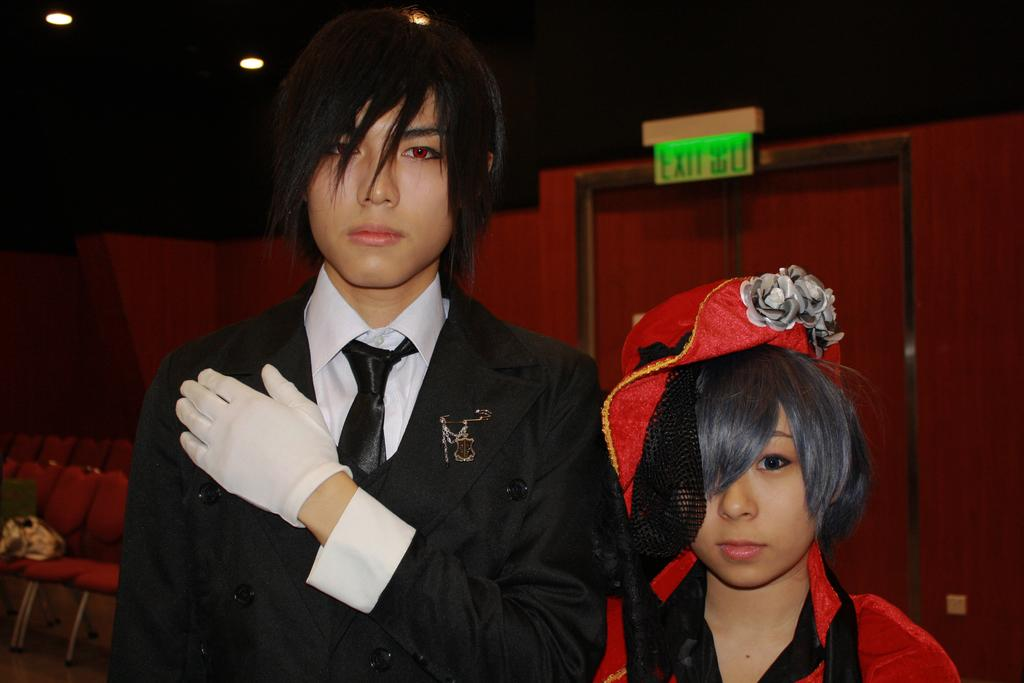Hat: (601, 262, 845, 518)
